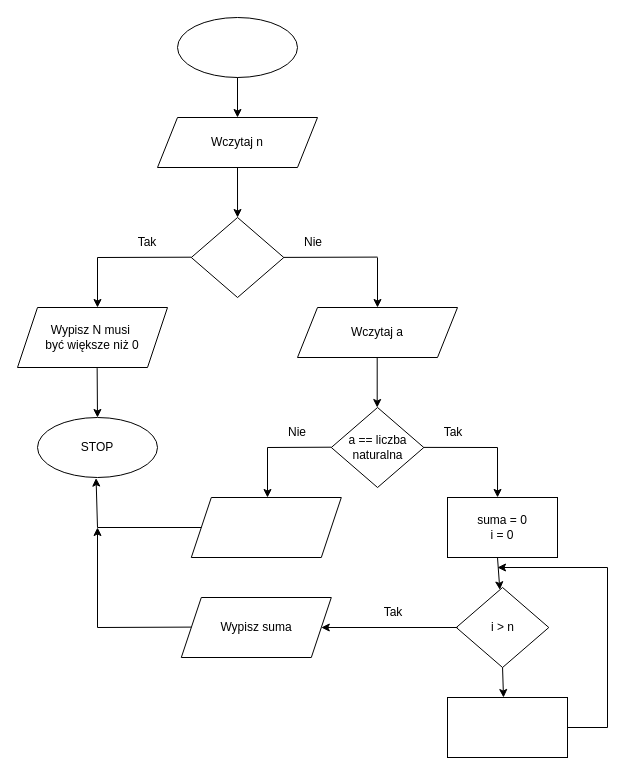
This 633x775 diagram has some shape labels left out. Here are the shapes that lost their labels. From the top down, the centre of each, then its label:
At point (237, 47): "START".
At point (237, 257): "n < 0".
At point (265, 527): "Wypisz A nie jest liczbą naturalną".
At point (507, 727): "suma = suma + i i = i + 1".
